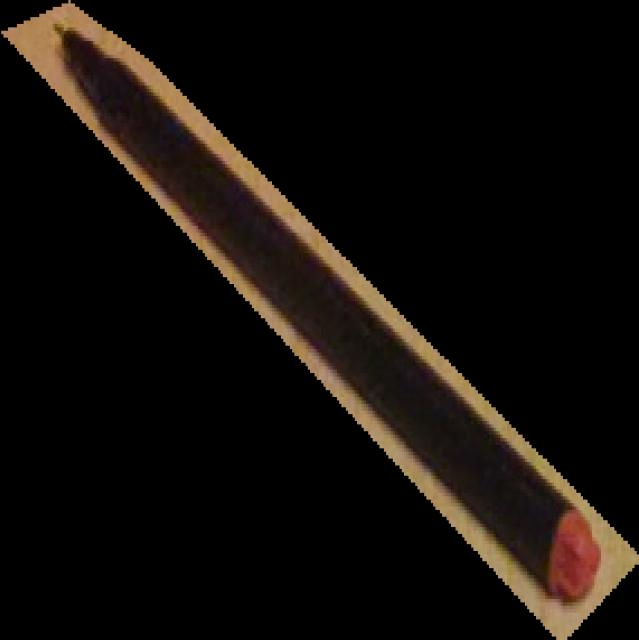red: (1, 1, 639, 640)
